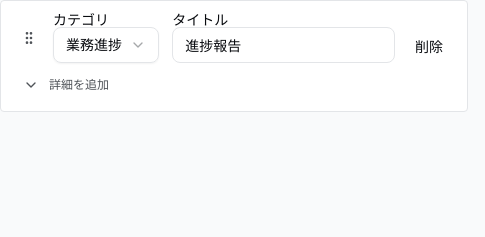
SortableTopicItem - デフォルト折りたたみ › 「詳細を隠す」をクリックするとメモが非表示になる
This screenshot has width=485, height=237.
Click the button "詳細を追加": {"x": 66, "y": 85} x1=13 y1=71 x2=119 y2=99
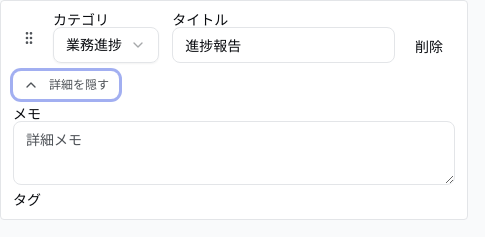
Click the button "詳細を隠す": {"x": 66, "y": 85} x1=13 y1=71 x2=119 y2=99
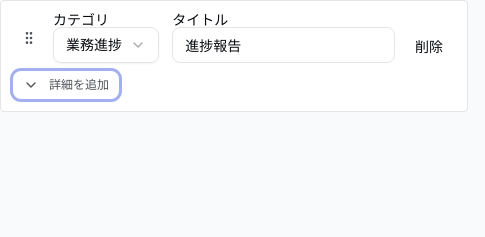
Now the text box with placeholder "詳細メモ" is gone
